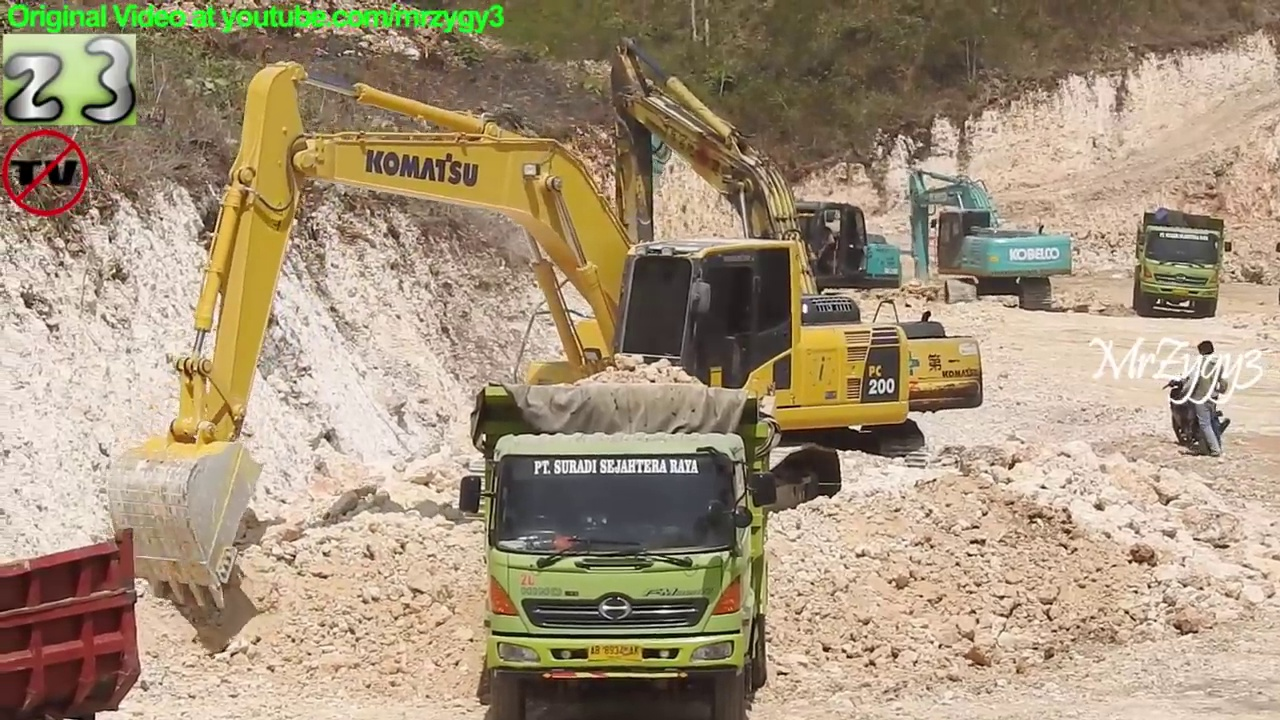excavator: (103, 55, 917, 617), (591, 33, 992, 479), (592, 95, 909, 319), (900, 159, 1079, 319)
truck: (455, 379, 786, 720), (1, 520, 148, 720), (1129, 203, 1236, 323)
